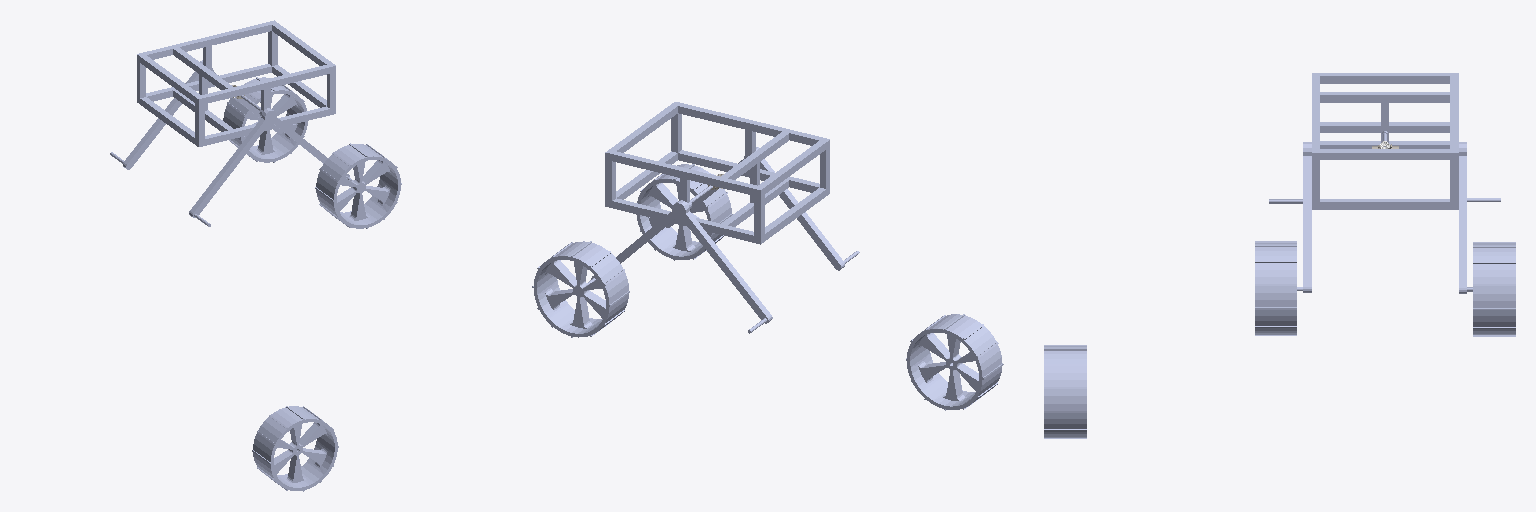
The robot description file, URDF, robot "rtabmap_drone_example":
<?xml version="1.0" encoding="utf-8"?>
<!-- This URDF was automatically created by SolidWorks to URDF Exporter! Originally created by [author] ([email redacted]) 
     Commit Version: 1.6.0-1-g15f4949  Build Version: 1.6.7594.29634
     For more information, please see http://wiki.ros.org/sw_urdf_exporter -->
<robot
  name="rtabmap_drone_example">
  <link
    name="base_link">
    <inertial>
      <origin
        xyz="0.00034936 -1.2569E-16 0.074871"
        rpy="0 0 0" />
      <mass
        value="1.7812" />
      <inertia
        ixx="0.039416"
        ixy="8.0246E-17"
        ixz="-6.4933E-06"
        iyy="0.052638"
        iyz="1.0456E-17"
        izz="0.078952" />
    </inertial>
    <visual>
      <origin
        xyz="0 0 0.5"
        rpy="0 0 0" />
      <geometry>
        <mesh
          filename="package://rtabmap_drone_example/meshes/base_link.STL" />
      </geometry>
      <material
        name="">
        <color
          rgba="0.79216 0.81961 0.93333 1" />
      </material>
    </visual>
    <collision>
      <origin
        xyz="0 0 0.5"
        rpy="0 0 0" />
      <geometry>
        <mesh
          filename="package://rtabmap_drone_example/meshes/base_link.STL" />
      </geometry>
    </collision>
  </link>
  <link
    name="Right Leg">
    <inertial>
      <origin
        xyz="0.00038782 0.010897 -0.12262"
        rpy="0 0 0" />
      <mass
        value="0.31991" />
      <inertia
        ixx="0.002218"
        ixy="6.0311E-07"
        ixz="-1.5213E-05"
        iyy="0.0089633"
        iyz="-0.0001907"
        izz="0.0070283" />
    </inertial>
    <visual>
      <origin
        xyz="0 0 0.5"
        rpy="0 0 0" />
      <geometry>
        <mesh
          filename="package://rtabmap_drone_example/meshes/Right Leg.STL" />
      </geometry>
      <material
        name="">
        <color
          rgba="0.79216 0.81961 0.93333 1" />
      </material>
    </visual>
    <collision>
      <origin
        xyz="0 0 0.5"
        rpy="0 0 0" />
      <geometry>
        <mesh
          filename="package://rtabmap_drone_example/meshes/Right Leg.STL" />
      </geometry>
    </collision>
  </link>
  <joint
    name="Right Leg Rotation joint"
    type="continuous">
    <origin
      xyz="0.01821 -0.195 0.05"
      rpy="0 0 0" />
    <parent
      link="base_link" />
    <child
      link="Right Leg" />
    <axis
      xyz="0 1 0" />
    <limit
      lower="-1"
      upper="1"
      effort="0.1"
      velocity="5" />
    <dynamics
      damping="0.1"
      friction="0.3" />
  </joint>
  <link
    name="Right Bevel Gear">
    <inertial>
      <origin
        xyz="1.0674E-06 0.011527 -0.00015591"
        rpy="0 0 0" />
      <mass
        value="0.0057917" />
      <inertia
        ixx="4.3602E-07"
        ixy="9.433E-12"
        ixz="-3.5834E-11"
        iyy="4.6745E-07"
        iyz="-1.3781E-09"
        izz="4.4125E-07" />
    </inertial>
    <visual>
      <origin
        xyz="0 0 0.5"
        rpy="0 0 0" />
      <geometry>
        <mesh
          filename="package://rtabmap_drone_example/meshes/Right Bevel Gear.STL" />
      </geometry>
      <material
        name="">
        <color
          rgba="0.77647 0.75686 0.73725 1" />
      </material>
    </visual>
    <collision>
      <origin
        xyz="0 0 0.5"
        rpy="0 0 0" />
      <geometry>
        <mesh
          filename="package://rtabmap_drone_example/meshes/Right Bevel Gear.STL" />
      </geometry>
    </collision>
  </link>
  <joint
    name="Right Bevel Gear Rotation Joint"
    type="fixed">
    <origin
      xyz="0 0.163 0"
      rpy="0 0 0" />
    <parent
      link="Right Leg" />
    <child
      link="Right Bevel Gear" />
    <axis
      xyz="0 0 0" />
    <limit
      effort="0.1"
      velocity="5" />
    <dynamics
      damping="0.1"
      friction="0.1" />
  </joint>
  <link
    name="BRW">
    <inertial>
      <origin
        xyz="-5.4229E-13 3.0256E-13 0.015"
        rpy="0 0 0" />
      <mass
        value="1.0141" />
      <inertia
        ixx="0.0051773"
        ixy="3.4742E-18"
        ixz="1.1045E-20"
        iyy="0.0051773"
        iyz="-1.1331E-19"
        izz="0.0091744" />
    </inertial>
    <visual>
      <origin
        xyz="0 0 0.5"
        rpy="0 0 0" />
      <geometry>
        <mesh
          filename="package://rtabmap_drone_example/meshes/BRW.STL" />
      </geometry>
      <material
        name="">
        <color
          rgba="0.79216 0.81961 0.93333 1" />
      </material>
    </visual>
    <collision>
      <origin
        xyz="0 0 0.5"
        rpy="0 0 0" />
      <geometry>
        <mesh
          filename="package://rtabmap_drone_example/meshes/BRW.STL" />
      </geometry>
    </collision>
  </link>
  <joint
    name="BRW Joint"
    type="continuous">
    <origin
      xyz="-0.2467 -0.05 -0.24827"
      rpy="1.5708 0 0" />
    <parent
      link="Right Leg" />
    <child
      link="BRW" />
    <axis
      xyz="0 0 1" />
    <limit
      effort="0.1"
      velocity="0" />
    <dynamics
      damping="0.1"
      friction="0.1" />
  </joint>
  <link
    name="FRW">
    <inertial>
      <origin
        xyz="-5.4232E-13 -0.015 3.0256E-13"
        rpy="0 0 0" />
      <mass
        value="1.0141" />
      <inertia
        ixx="0.0051773"
        ixy="-7.4206E-20"
        ixz="2.1103E-18"
        iyy="0.0091744"
        iyz="1.105E-19"
        izz="0.0051773" />
    </inertial>
    <visual>
      <origin
        xyz="0 0 0.5"
        rpy="0 0 0" />
      <geometry>
        <mesh
          filename="package://rtabmap_drone_example/meshes/FRW.STL" />
      </geometry>
      <material
        name="">
        <color
          rgba="0.79216 0.81961 0.93333 1" />
      </material>
    </visual>
    <collision>
      <origin
        xyz="0 0 0.5"
        rpy="0 0 0" />
      <geometry>
        <mesh
          filename="package://rtabmap_drone_example/meshes/FRW.STL" />
      </geometry>
    </collision>
  </link>
  <joint
    name="FRW Joint"
    type="continuous">
    <origin
      xyz="0.24827 -0.05 -0.2467"
      rpy="0 0 0" />
    <parent
      link="Right Leg" />
    <child
      link="FRW" />
    <axis
      xyz="0 -1 0" />
    <limit
      effort="0.1"
      velocity="0" />
    <dynamics
      damping="0.1"
      friction="0.1" />
  </joint>
  <link
    name="Left Leg">
    <inertial>
      <origin
        xyz="-0.0010767 -0.010897 -0.12262"
        rpy="0 0 0" />
      <mass
        value="0.31991" />
      <inertia
        ixx="0.0022183"
        ixy="1.6745E-06"
        ixz="4.2237E-05"
        iyy="0.0089633"
        iyz="0.00019069"
        izz="0.0070279" />
    </inertial>
    <visual>
      <origin
        xyz="0 0 0.5"
        rpy="0 0 0" />
      <geometry>
        <mesh
          filename="package://rtabmap_drone_example/meshes/Left Leg.STL" />
      </geometry>
      <material
        name="">
        <color
          rgba="0.79216 0.81961 0.93333 1" />
      </material>
    </visual>
    <collision>
      <origin
        xyz="0 0 0.5"
        rpy="0 0 0" />
      <geometry>
        <mesh
          filename="package://rtabmap_drone_example/meshes/Left Leg.STL" />
      </geometry>
    </collision>
  </link>
  <joint
    name="Left Leg Rotation Joint"
    type="continuous">
    <origin
      xyz="0.01821 0.195 0.05"
      rpy="0 0 0" />
    <parent
      link="base_link" />
    <child
      link="Left Leg" />
    <axis
      xyz="0 -1 0" />
    <limit
      lower="-1"
      upper="1"
      effort="0.1"
      velocity="5" />
    <dynamics
      damping="0.1"
      friction="0.3" />
  </joint>
  <link
    name="Left Bevel Gear">
    <inertial>
      <origin
        xyz="-1.8831E-06 -0.011527 -0.00015591"
        rpy="0 0 0" />
      <mass
        value="0.0057917" />
      <inertia
        ixx="4.3602E-07"
        ixy="1.6643E-11"
        ixz="6.3216E-11"
        iyy="4.6745E-07"
        iyz="1.378E-09"
        izz="4.4125E-07" />
    </inertial>
    <visual>
      <origin
        xyz="0 0 0.5"
        rpy="0 0 0" />
      <geometry>
        <mesh
          filename="package://rtabmap_drone_example/meshes/Left Bevel Gear.STL" />
      </geometry>
      <material
        name="">
        <color
          rgba="0.77647 0.75686 0.73725 1" />
      </material>
    </visual>
    <collision>
      <origin
        xyz="0 0 0.5"
        rpy="0 0 0" />
      <geometry>
        <mesh
          filename="package://rtabmap_drone_example/meshes/Left Bevel Gear.STL" />
      </geometry>
    </collision>
  </link>
  <joint
    name="Left Bevel Gear Rotation Joint"
    type="fixed">
    <origin
      xyz="0 -0.163 0"
      rpy="0 0 0" />
    <parent
      link="Left Leg" />
    <child
      link="Left Bevel Gear" />
    <axis
      xyz="0 0 0" />
    <limit
      effort="0.1"
      velocity="5" />
    <dynamics
      damping="0.1"
      friction="0.1" />
  </joint>
  <link
    name="BLW">
    <inertial>
      <origin
        xyz="-5.4237E-13 0.015 3.0256E-13"
        rpy="0 0 0" />
      <mass
        value="1.0141" />
      <inertia
        ixx="0.0051773"
        ixy="-5.0537E-20"
        ixz="2.0784E-18"
        iyy="0.0091744"
        iyz="7.1288E-20"
        izz="0.0051773" />
    </inertial>
    <visual>
      <origin
        xyz="0 0 0"
        rpy="0 0 0" />
      <geometry>
        <mesh
          filename="package://rtabmap_drone_example/meshes/BLW.STL" />
      </geometry>
      <material
        name="">
        <color
          rgba="0.79216 0.81961 0.93333 1" />
      </material>
    </visual>
    <collision>
      <origin
        xyz="0 0 0.5"
        rpy="0 0 0" />
      <geometry>
        <mesh
          filename="package://rtabmap_drone_example/meshes/BLW.STL" />
      </geometry>
    </collision>
  </link>
  <joint
    name="BLW joint"
    type="continuous">
    <origin
      xyz="-0.24965 0.05 -0.2453"
      rpy="0 0 0" />
    <parent
      link="Left Leg" />
    <child
      link="BLW" />
    <axis
      xyz="0 1 0" />
    <limit
      effort="0.1"
      velocity="0" />
    <dynamics
      damping="0.1"
      friction="0.1" />
  </joint>
  <link
    name="FLW">
    <inertial>
      <origin
        xyz="-5.4232E-13 0.015 3.0259E-13"
        rpy="0 0 0" />
      <mass
        value="1.0141" />
      <inertia
        ixx="0.0051773"
        ixy="-3.8947E-20"
        ixz="2.3404E-18"
        iyy="0.0091744"
        iyz="8.1892E-20"
        izz="0.0051773" />
    </inertial>
    <visual>
      <origin
        xyz="0 0 0.5"
        rpy="0 0 0" />
      <geometry>
        <mesh
          filename="package://rtabmap_drone_example/meshes/FLW.STL" />
      </geometry>
      <material
        name="">
        <color
          rgba="0.79216 0.81961 0.93333 1" />
      </material>
    </visual>
    <collision>
      <origin
        xyz="0 0 0"
        rpy="0 0 0" />
      <geometry>
        <mesh
          filename="package://rtabmap_drone_example/meshes/FLW.STL" />
      </geometry>
    </collision>
  </link>
  <joint
    name="FLW joint"
    type="continuous">
    <origin
      xyz="0.2453 0.05 -0.24965"
      rpy="0 0 0" />
    <parent
      link="Left Leg" />
    <child
      link="FLW" />
    <axis
      xyz="0 1 0" />
    <limit
      effort="0.1"
      velocity="0" />
    <dynamics
      damping="0.1"
      friction="0.1" />
  </joint>
  <link
    name="Center Bevel Gear">
    <inertial>
      <origin
        xyz="0 0 0"
        rpy="0 0 0" />
      <mass
        value="0" />
      <inertia
        ixx="0"
        ixy="0"
        ixz="0"
        iyy="0"
        iyz="0"
        izz="0" />
    </inertial>
    <visual>
      <origin
        xyz="0 0 0.5"
        rpy="0 0 0" />
      <geometry>
        <mesh
          filename="package://rtabmap_drone_example/meshes/Center Bevel Gear.STL" />
      </geometry>
      <material
        name="">
        <color
          rgba="1 1 1 1" />
      </material>
    </visual>
    <collision>
      <origin
        xyz="0 0 0.5"
        rpy="0 0 0" />
      <geometry>
        <mesh
          filename="package://rtabmap_drone_example/meshes/Center Bevel Gear.STL" />
      </geometry>
    </collision>
  </link>
  <joint
    name="Center Bevel Gear Rotation Joint"
    type="continuous">
    <origin
      xyz="-0.01399 0 0.05"
      rpy="0 0 0" />
    <parent
      link="base_link" />
    <child
      link="Center Bevel Gear" />
    <axis
      xyz="1 0 0" />
    <limit
      effort="0.1"
      velocity="5" />
    <dynamics
      damping="0.1"
      friction="0.1" />
  </joint>
</robot>

--- Render facts (derived) ---
The picture shows the robot from 3 angles, left to right: view 1: azimuth 30°, elevation 25°; view 2: azimuth 150°, elevation 25°; view 3: azimuth 270°, elevation 25°; orthographic projection.
Model rtabmap_drone_example with 10 links and 9 joints (7 continuous, 2 fixed), rooted at base_link, posed every joint at zero.
Visible links, largest first — view 1: base_link, BRW, FRW, FLW, Right Leg, Left Leg; view 2: base_link, BRW, FLW, FRW, Left Leg, Right Leg; view 3: base_link, FLW, BRW, FRW, Right Leg, Left Leg.
Link boxes in pixels (bbox=[...]): base_link: bbox=[137, 20, 335, 146]; BRW: bbox=[252, 406, 338, 491]; FRW: bbox=[315, 143, 401, 228]; FLW: bbox=[223, 77, 307, 162]; Right Leg: bbox=[189, 95, 362, 226]; Left Leg: bbox=[110, 60, 282, 169]; base_link: bbox=[605, 102, 829, 244]; BRW: bbox=[906, 314, 1003, 410]; FLW: bbox=[532, 241, 629, 337]; FRW: bbox=[636, 164, 732, 260]; Left Leg: bbox=[577, 185, 772, 333]; Right Leg: bbox=[666, 147, 859, 270]; base_link: bbox=[1312, 73, 1458, 209]; FLW: bbox=[1473, 242, 1515, 336]; BRW: bbox=[1044, 345, 1086, 438]; FRW: bbox=[1255, 241, 1296, 335]; Right Leg: bbox=[1269, 142, 1311, 292]; Left Leg: bbox=[1459, 142, 1500, 293].
Size in the robot's own frame: 0.721 by 1.12 by 0.9613 metres.
Meshes: 10 distinct files referenced, 9 mesh visuals loaded (9 binary STL); not drawn: 1 (reference not matched to a file when rendering).